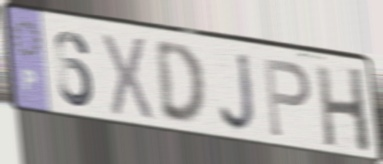6: (53, 29, 96, 110)
D: (153, 41, 209, 131)
H: (313, 63, 374, 157)
J: (217, 51, 259, 136)
P: (261, 55, 313, 141)
X: (100, 30, 155, 125)
